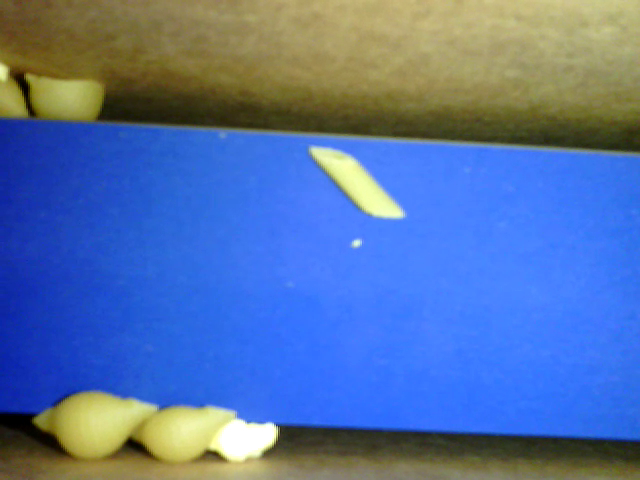penne: (306, 146, 408, 219)
shell: (32, 388, 162, 458), (131, 403, 240, 464), (19, 71, 105, 126)
